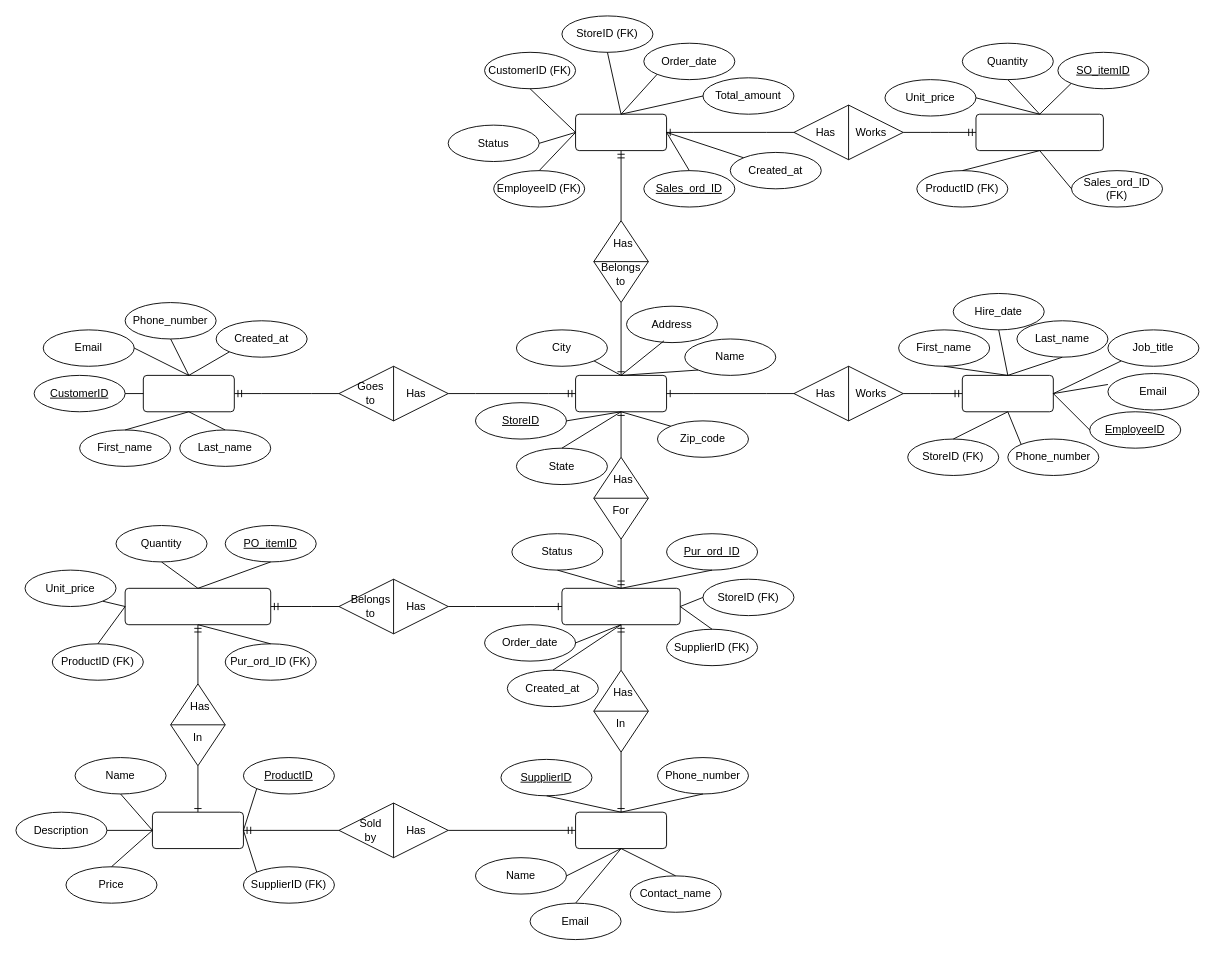
Some shapes in this 1215 by 956 pixel diagram are drawn without their labels. The box of each missing label's shape, as (x1, y1, x2, y2) in pixels:
CUSTOMER: (142, 374, 234, 412)
EMPLOYEE: (961, 374, 1053, 412)
PRODUCT: (152, 811, 243, 849)
PURCHASE_ORDER: (561, 587, 680, 625)
PURCHASE_ORDER_ITEM: (124, 587, 271, 625)
SALES_ORDER: (575, 113, 667, 151)
SALES_ORDER_ITEM: (975, 113, 1103, 151)
STORE: (575, 374, 667, 412)
SUPPLIER: (575, 811, 667, 849)
